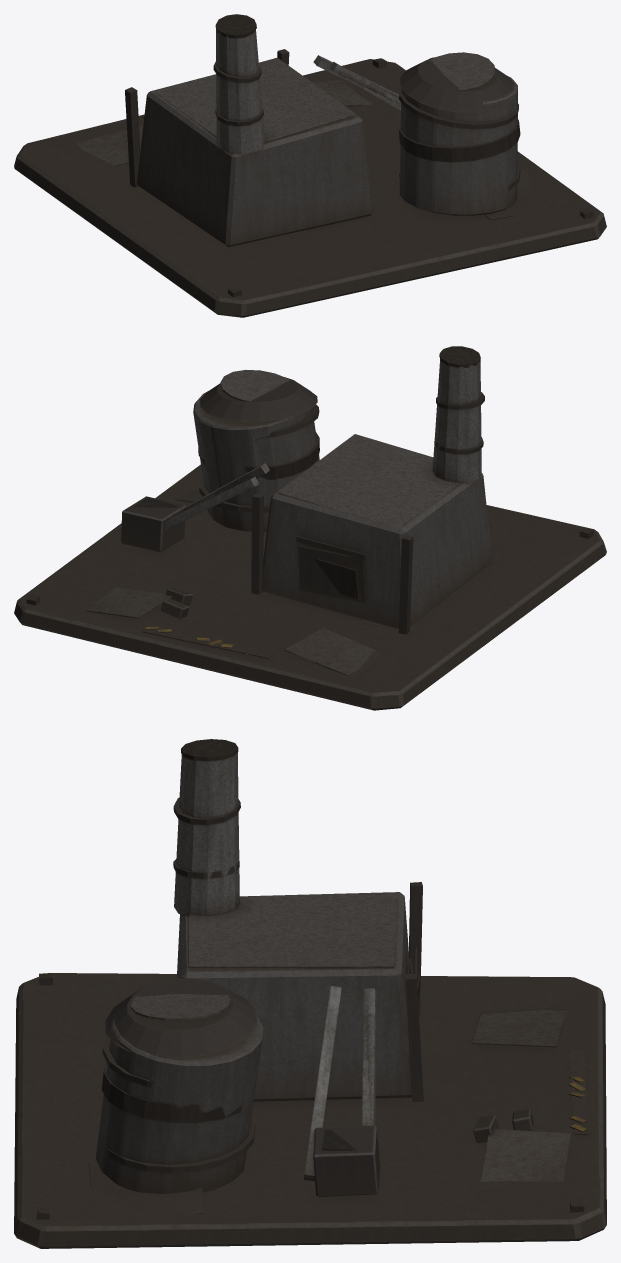
File: chs_converter_wreck.fbx
3 renders of one model, top to bottom at view 1: azimuth 30°, elevation 25°; view 2: azimuth 150°, elevation 25°; view 3: azimuth 270°, elevation 25°, orthographic. The views are drawn at different scales.
Visible parts, largest first — view 1: base_bar, crucible_bar; view 2: base_bar, crucible_bar; view 3: base_bar, crucible_bar.
Part boxes in pixels (x1,y1,x2,y2): base_bar: (14,14,606,317); crucible_bar: (398,52,520,215); base_bar: (14,346,606,710); crucible_bar: (193,370,319,531); base_bar: (14,739,606,1248); crucible_bar: (96,978,263,1193).
Bounding box in the file's own units: 1562 × 1074 × 1560.
2 materials, 2 textured.
